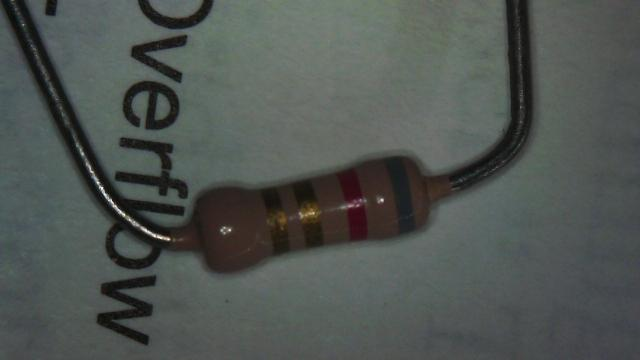gold: (292, 180, 324, 247), (262, 187, 290, 254)
grey: (384, 157, 415, 234)
red: (337, 169, 368, 240)
resistor: (154, 108, 474, 306)
